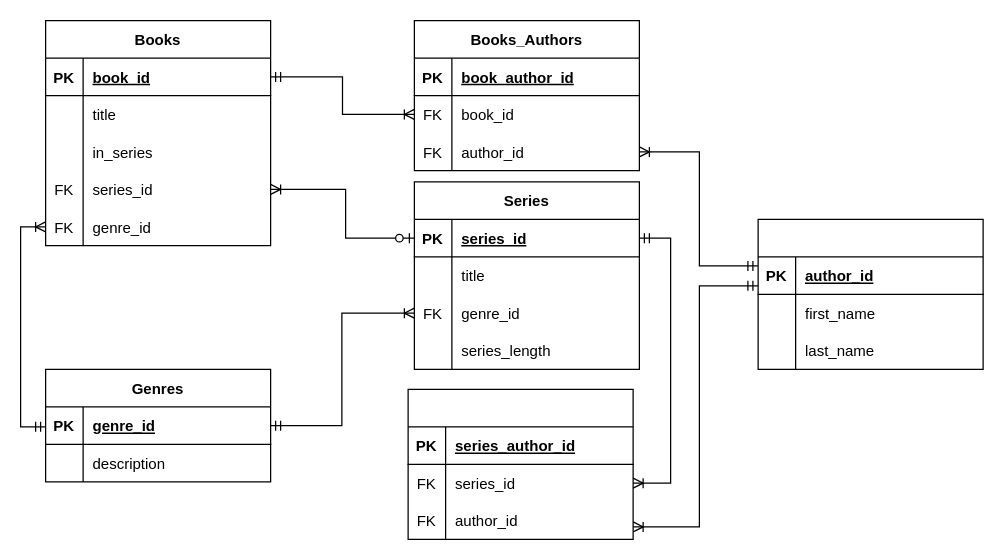
This 1004x560 diagram has some shape labels left out. The shapes that lost their labels are listed below. From the top down, each one's box as (x1, y1, x2, y2) in pixels, then its label:
(757, 218, 983, 369): Authors
(407, 388, 633, 539): Series_Authors
